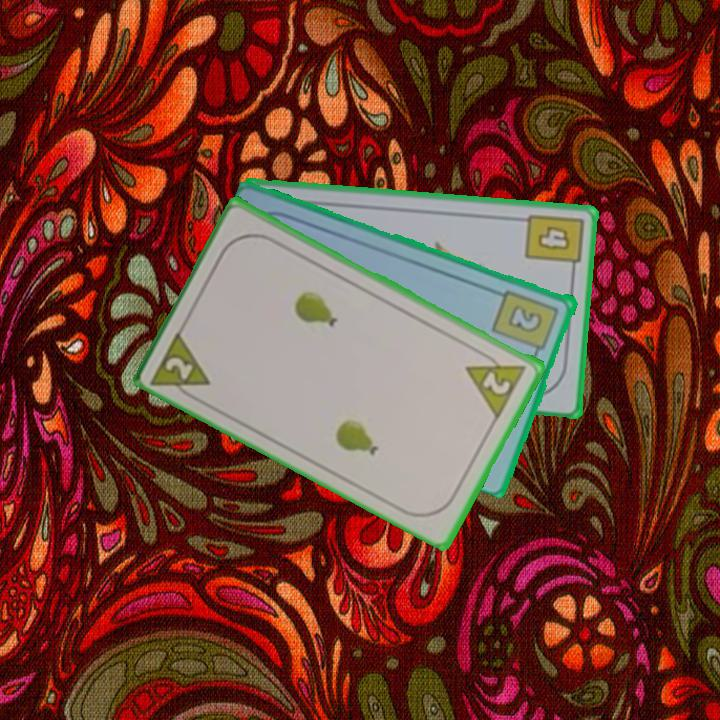2b: (490, 286, 562, 361)
2p: (148, 325, 215, 403), (462, 345, 530, 421)
4b: (522, 210, 586, 277)
